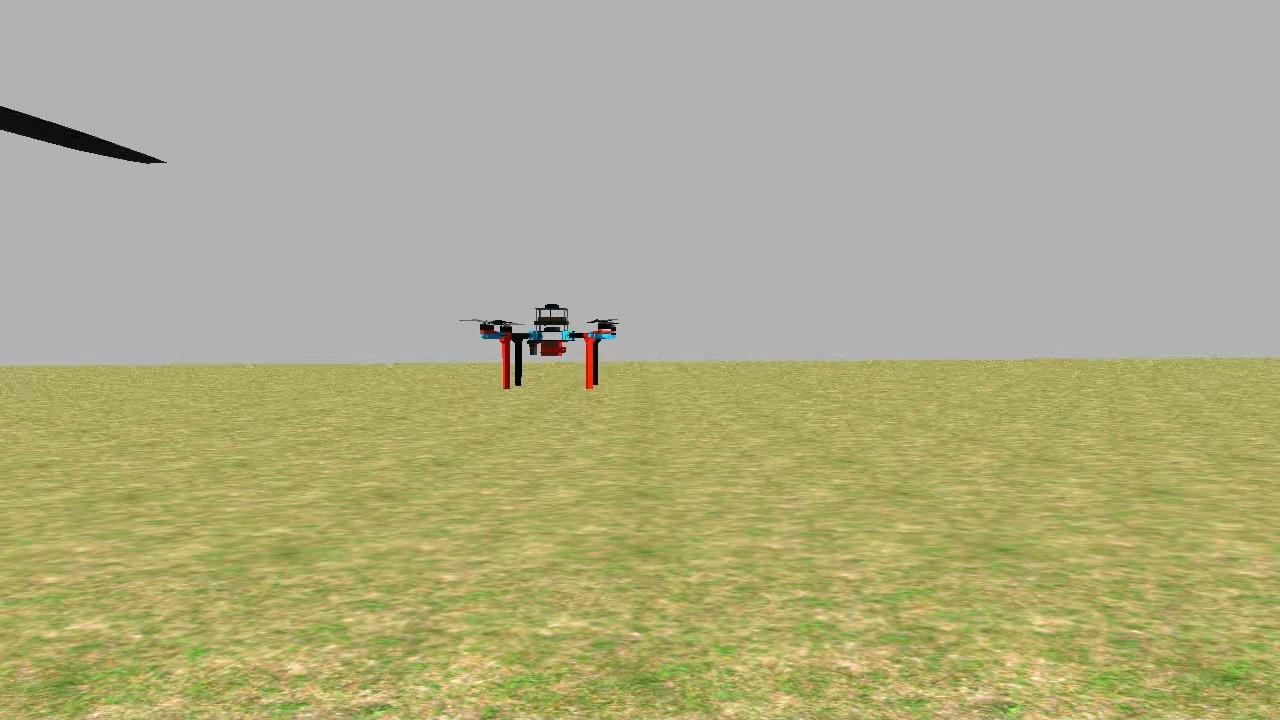UAV: (473, 301, 625, 399)
